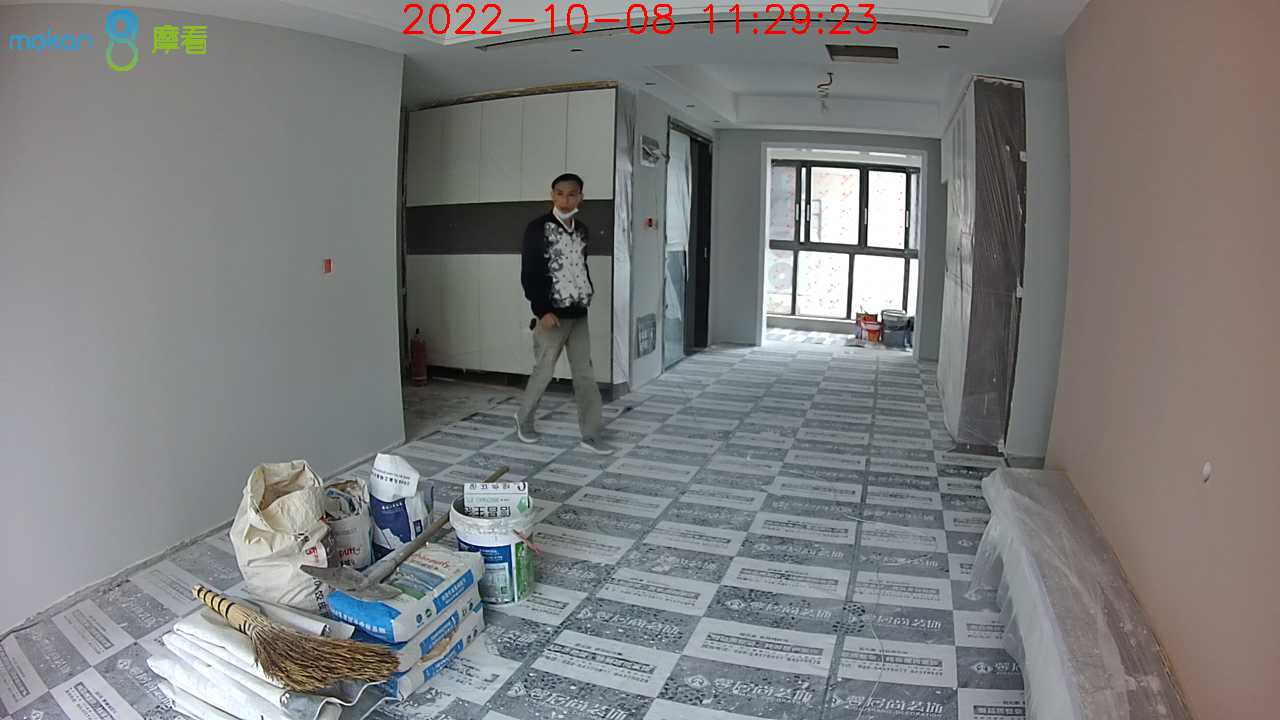people: (514, 171, 616, 454)
window: (766, 157, 917, 320)
